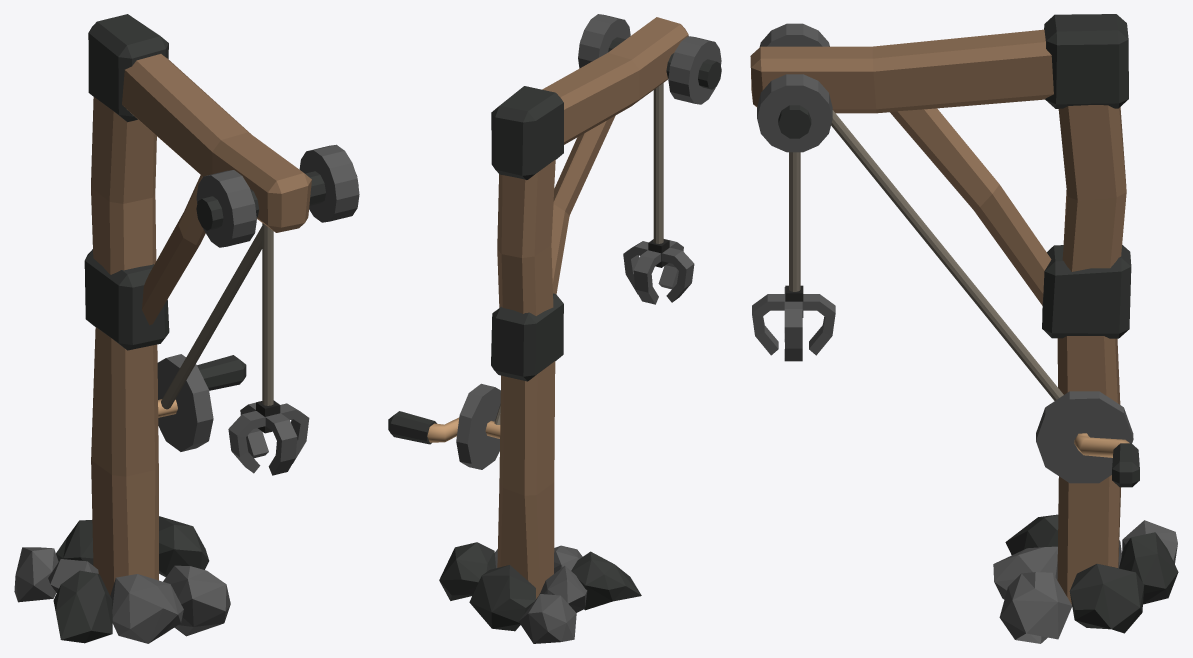
The model's file is mine-crane.fbx.
3 views of the same model, side by side, from view 1: azimuth 30°, elevation 25°; view 2: azimuth 150°, elevation 25°; view 3: azimuth 270°, elevation 25° (orthographic). The views are drawn at different scales.
Visible parts, largest first — view 1: wooden gate_LOD0; view 2: wooden gate_LOD0; view 3: wooden gate_LOD0.
Part boxes in pixels (bbox=[...]): wooden gate_LOD0: bbox=[14, 14, 359, 643]; wooden gate_LOD0: bbox=[388, 14, 721, 643]; wooden gate_LOD0: bbox=[750, 14, 1178, 643].
Size of what is drawn, in the model's own units: 1.55 by 3.8 by 2.44.
